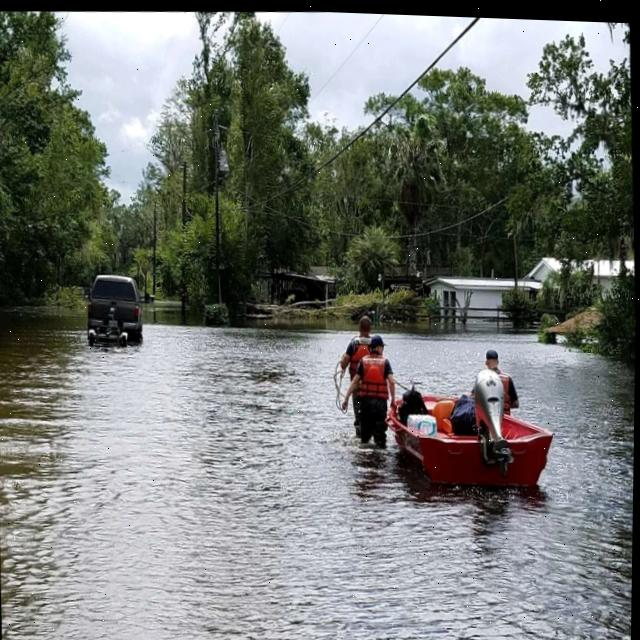rescuer: (334, 332, 401, 457), (335, 306, 381, 439), (472, 340, 524, 424)
